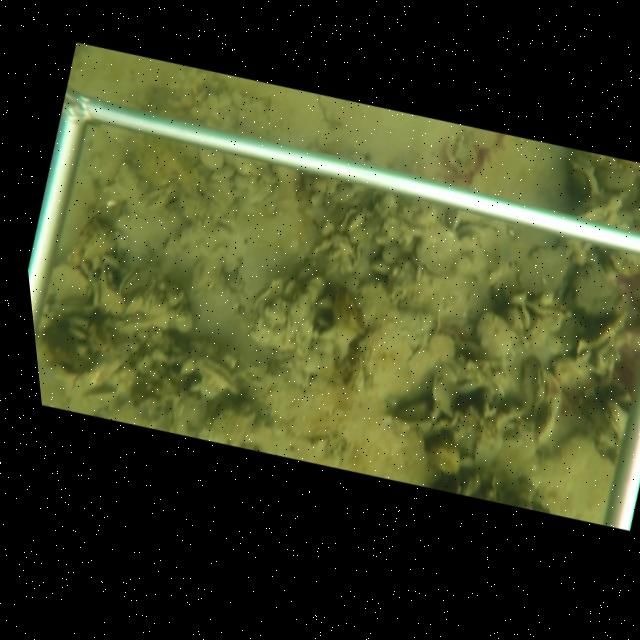Oyster-Closed: (571, 312, 628, 356), (49, 262, 93, 305), (520, 352, 547, 420)
Oyster-Indeterminate: (480, 310, 520, 357)
Oyster-Open: (410, 223, 461, 280), (118, 265, 146, 298), (339, 209, 366, 234)
